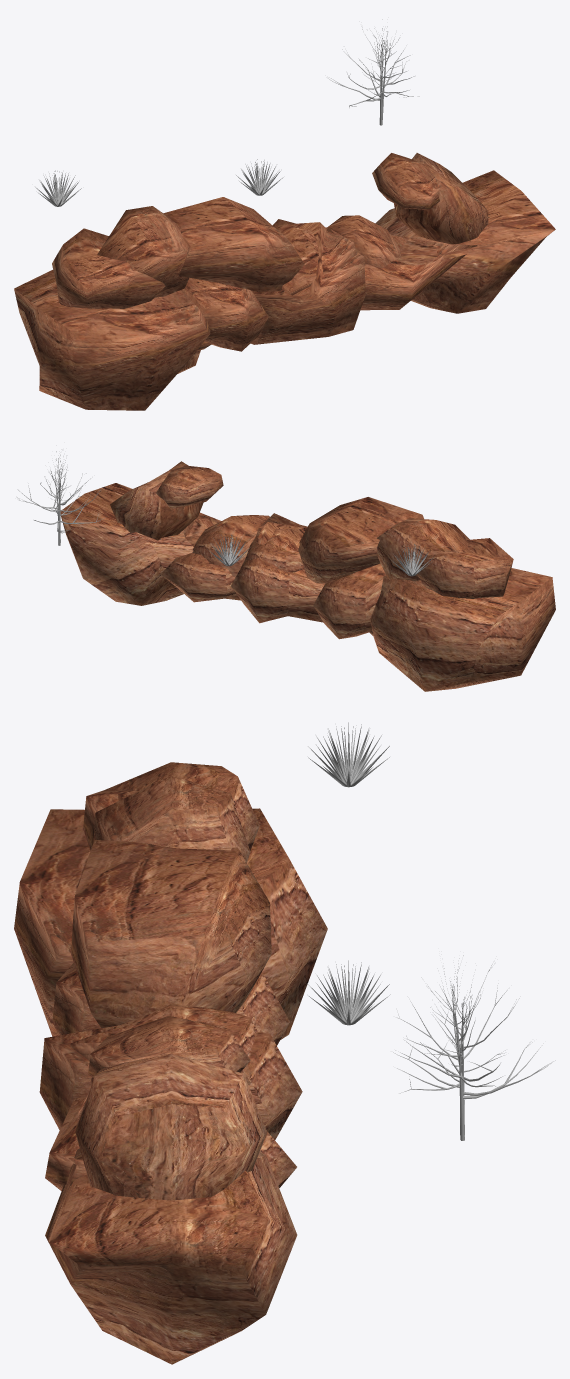
File: Land1.fbx
3 renders of one model, top to bottom at view 1: azimuth 30°, elevation 25°; view 2: azimuth 150°, elevation 25°; view 3: azimuth 270°, elevation 25°, orthographic. The views are drawn at different scales.
Visible parts, largest first — view 1: pCube3, pCube15, pCube8, pCube9, pCube4, pCube5, pCube14, pCube6, pCube12, pCube10, pCube13, pCube11 (+3 smaller); view 2: pCube3, pCube15, pCube8, pCube9, pCube4, pCube5, pCube6, pCube14, pCube12, pCube11, pCube13, pCube10 (+3 smaller); view 3: pCube15, pCube8, pCube14, pCube3, pCube5, pCube9, pCube13, pCube4, pCube6, tree3, pCube12, pCube10 (+2 smaller).
Part boxes in pixels (left/top/right/bottom): pCube3: left=14, top=270, right=210, bottom=410; pCube15: left=375, top=170, right=555, bottom=313; pCube8: left=163, top=197, right=304, bottom=291; pCube9: left=251, top=222, right=365, bottom=344; pCube4: left=52, top=228, right=165, bottom=308; pCube5: left=97, top=206, right=189, bottom=297; pCube14: left=394, top=153, right=488, bottom=244; pCube6: left=180, top=277, right=268, bottom=351; pCube12: left=360, top=235, right=477, bottom=310; pCube10: left=272, top=219, right=356, bottom=295; pCube13: left=372, top=153, right=441, bottom=209; pCube11: left=326, top=215, right=401, bottom=268; pCube3: left=369, top=568, right=555, bottom=691; pCube15: left=60, top=483, right=219, bottom=605; pCube8: left=298, top=497, right=423, bottom=583; pCube9: left=231, top=522, right=324, bottom=623; pCube4: left=417, top=538, right=513, bottom=598; pCube5: left=377, top=518, right=469, bottom=581; pCube6: left=313, top=563, right=386, bottom=639; pCube14: left=110, top=461, right=203, bottom=540; pCube12: left=161, top=512, right=240, bottom=602; pCube11: left=192, top=515, right=269, bottom=577; pCube13: left=156, top=466, right=223, bottom=509; pCube10: left=240, top=513, right=306, bottom=572; pCube15: left=45, top=1148, right=297, bottom=1364; pCube8: left=71, top=840, right=271, bottom=1028; pCube14: left=75, top=1053, right=267, bottom=1200; pCube3: left=14, top=808, right=327, bottom=1039; pCube5: left=93, top=775, right=250, bottom=862; pCube9: left=39, top=1018, right=302, bottom=1139; pCube13: left=88, top=1016, right=250, bottom=1078; pCube4: left=83, top=762, right=259, bottom=850; pCube6: left=52, top=963, right=289, bottom=1045; tree3: left=393, top=955, right=555, bottom=1140; pCube12: left=45, top=1097, right=296, bottom=1190; pCube10: left=70, top=1004, right=257, bottom=1085.
Size of the model in its own units: 5.99 by 2.92 by 3.35.
3 materials, 1 textured.
